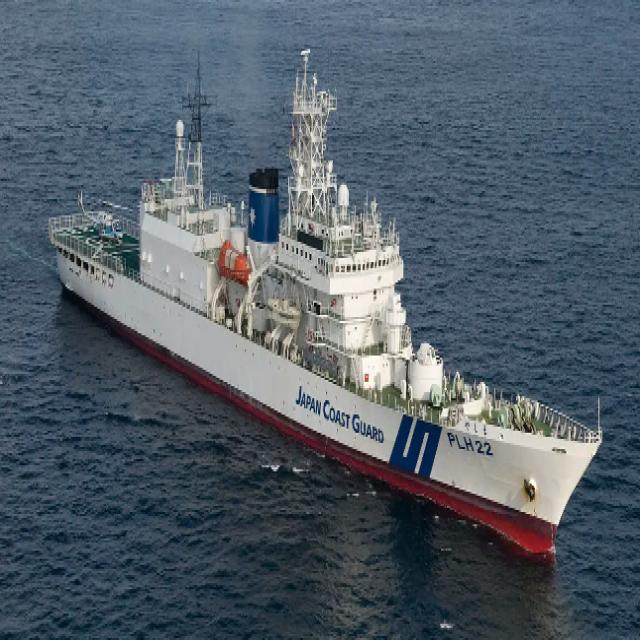navalvessels: (46, 49, 605, 563)
